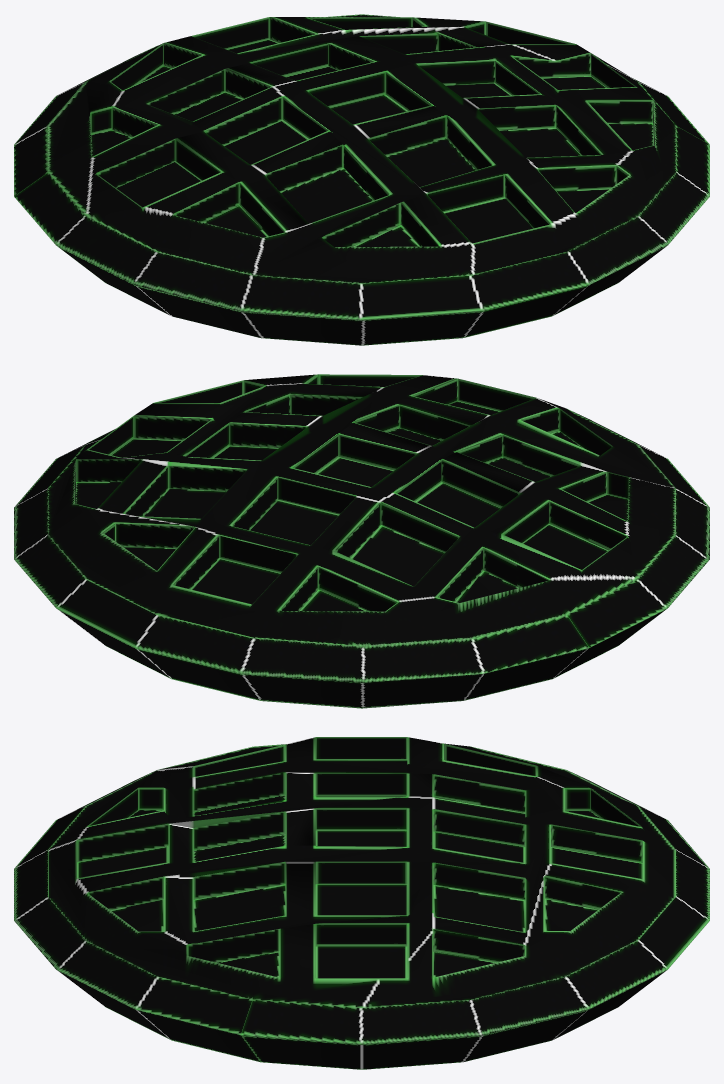
The model's file is pie.FBX.
3 views of the same model, one above another, from view 1: azimuth 30°, elevation 25°; view 2: azimuth 150°, elevation 25°; view 3: azimuth 270°, elevation 25° (orthographic).
Parts seen in each view (by area): view 1: Cylinder001; view 2: Cylinder001; view 3: Cylinder001.
Part boxes in pixels (x1,y1,x2,y2): Cylinder001: [14, 14, 709, 345]; Cylinder001: [14, 374, 709, 708]; Cylinder001: [14, 737, 709, 1069].
Size of the model in its own units: 57.99 by 11.03 by 57.11.
